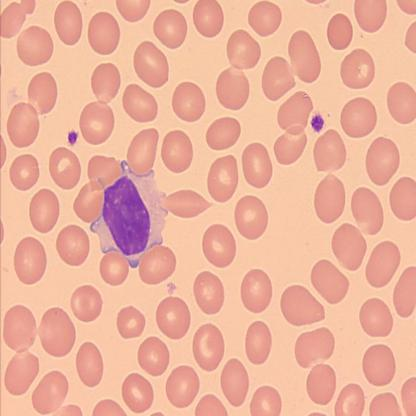Atypical lymphocyte: (89, 159, 167, 269)
